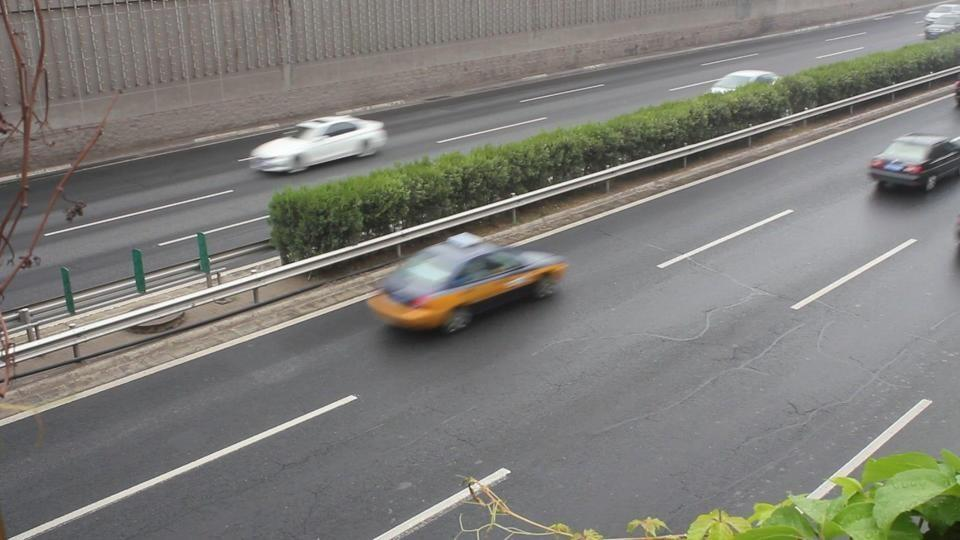car: (367, 231, 570, 337), (247, 113, 387, 179), (866, 133, 960, 192), (709, 70, 778, 94), (924, 3, 960, 41), (952, 213, 960, 270)
